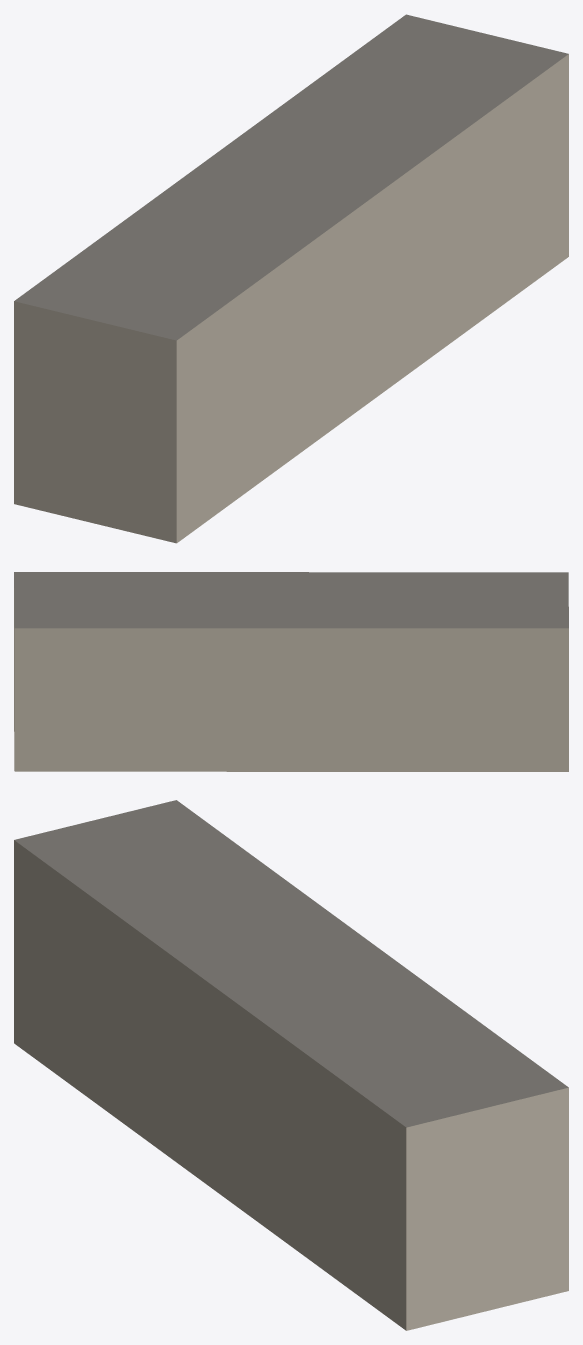
3 views of the same model, one above another, from view 1: azimuth 30°, elevation 25°; view 2: azimuth 150°, elevation 25°; view 3: azimuth 270°, elevation 25° (orthographic). The views are drawn at different scales.
Parts seen in each view (by area): view 1: HP-w299010092; view 2: HP-w299010092; view 3: HP-w299010092.
Boxes of the visible parts, x1,y1,x2,y2 form: HP-w299010092: (14, 14, 568, 543); HP-w299010092: (14, 572, 568, 771); HP-w299010092: (14, 800, 568, 1330).
Bounding box in the file's own units: 62.17 × 18 × 44.52.
